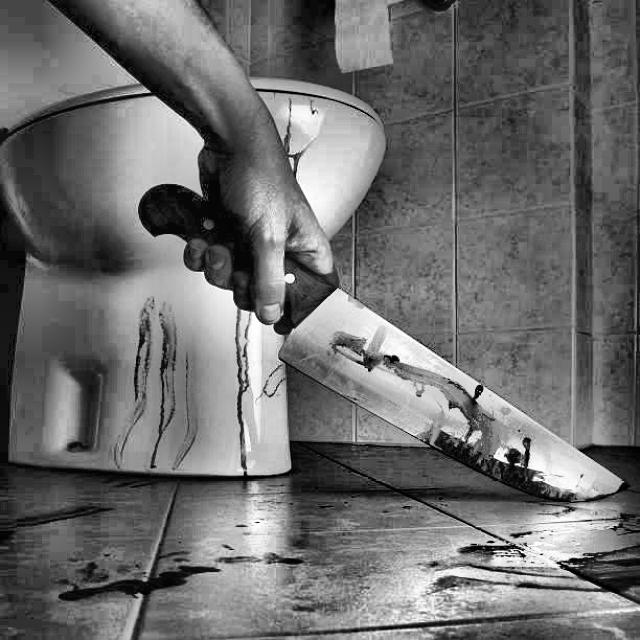pisau: (132, 182, 636, 483)
